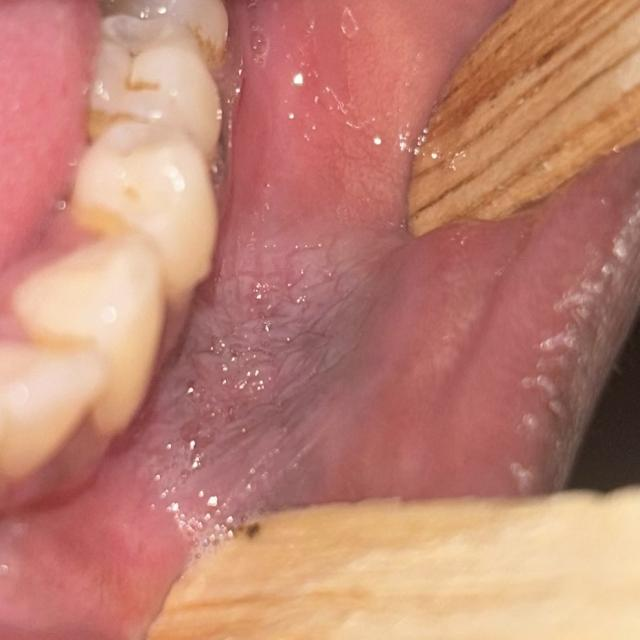leukoplakia-detection: (126, 219, 407, 538)
processing_area: (1, 1, 639, 639)
